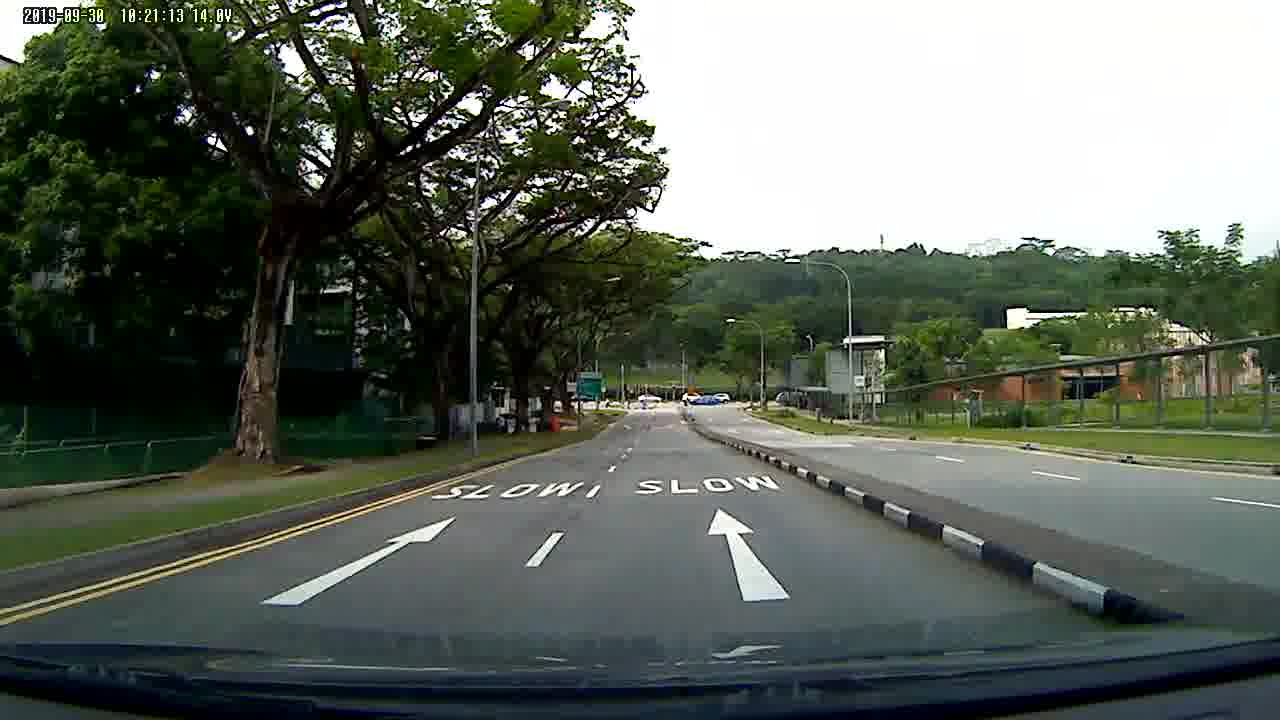car: (638, 390, 663, 407)
